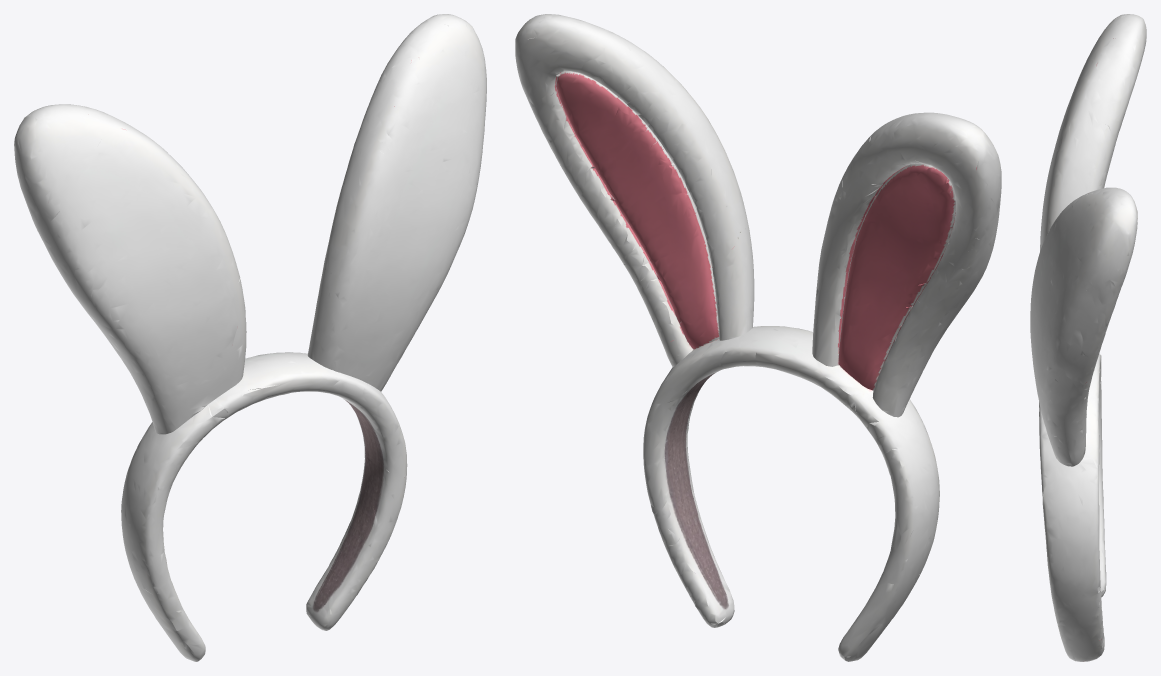
The model's file is bunny-ears.glb.
The picture shows the model from 3 angles, left to right: view 1: azimuth 30°, elevation 25°; view 2: azimuth 150°, elevation 25°; view 3: azimuth 270°, elevation 25°; orthographic projection. The views are drawn at different scales.
Visible parts, largest first — view 1: bunny-ears; view 2: bunny-ears; view 3: bunny-ears.
Part boxes in pixels (x1,y1,x2,y2): bunny-ears: [14, 14, 486, 661]; bunny-ears: [515, 14, 1001, 661]; bunny-ears: [1030, 14, 1146, 661].
Size of the model in its own units: 0.24 by 0.2824 by 0.0562.
Materials: 1 (1 with a texture image).
